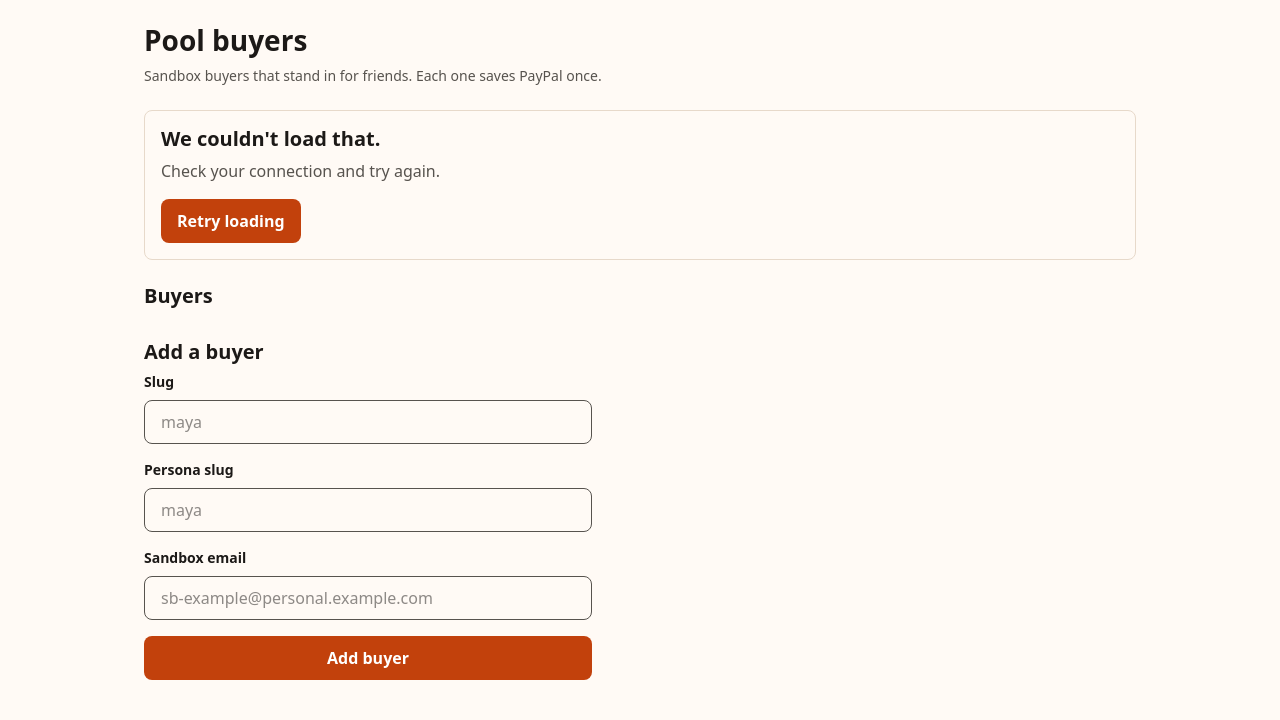
PoolBuyersPage › offers a retry when the load fails
This screenshot has width=1280, height=720.
Check: the heading "We couldn't load that." is shown, box [161,125,380,152]
Click the button "Retry loading" at (231, 221), box [161,199,301,243]
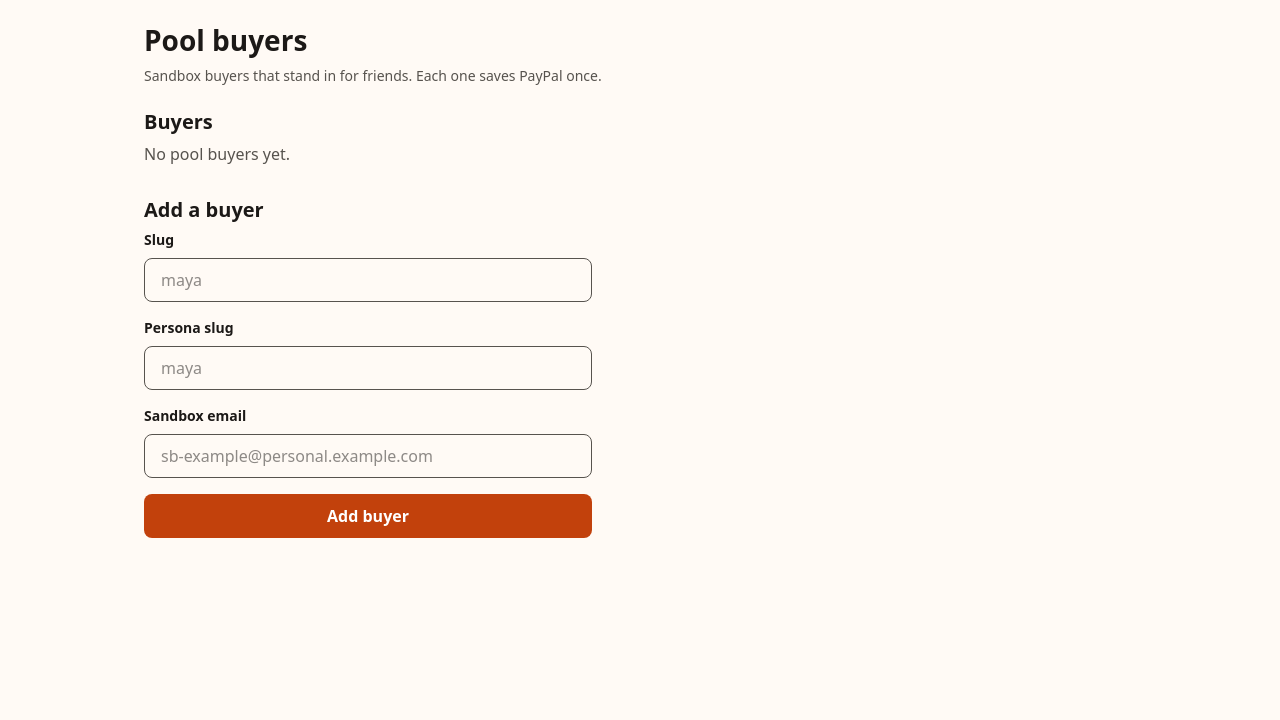
Check: the text "No pool buyers yet." is shown, box [144,143,290,165]
